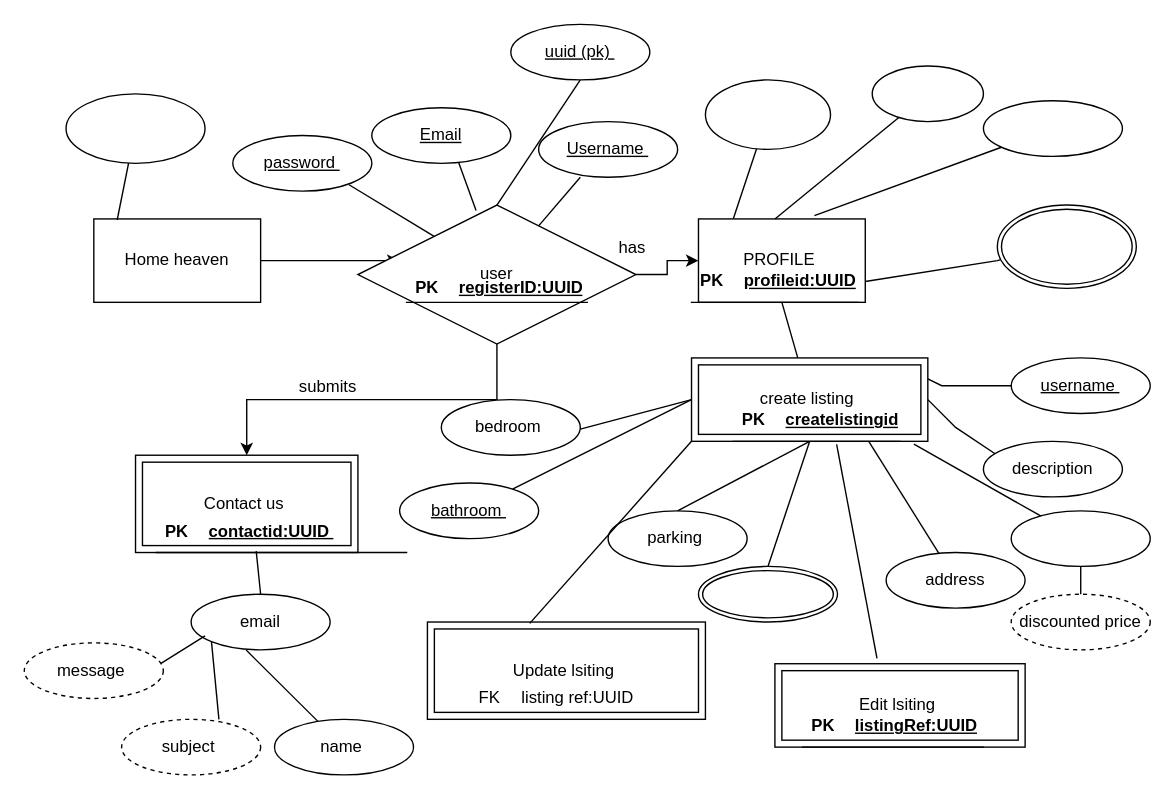
The diagram is 1175 pixels wide and 799 high, and some of its shapes have lost their labels. The centre of each missing label's shape, as x and y in pixels:
"About" goes at pixel 135 127.
"delete account" goes at pixel 1052 127.
"image" goes at pixel 767 593.
"offer" goes at pixel 1080 537.
"show lisitng" goes at pixel 1066 246.
"sign out" goes at pixel 927 93.
"update account" goes at pixel 767 114.
